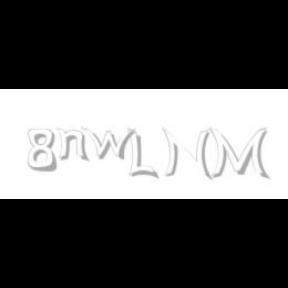8: (28, 128, 57, 172)
L: (128, 128, 156, 180)
M: (208, 128, 268, 180)
N: (162, 128, 210, 180)
n: (56, 128, 90, 162)
w: (82, 128, 140, 160)
